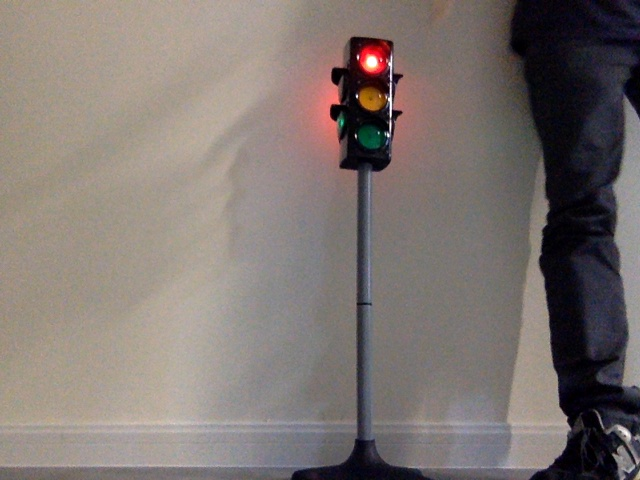red: (349, 39, 389, 154)
